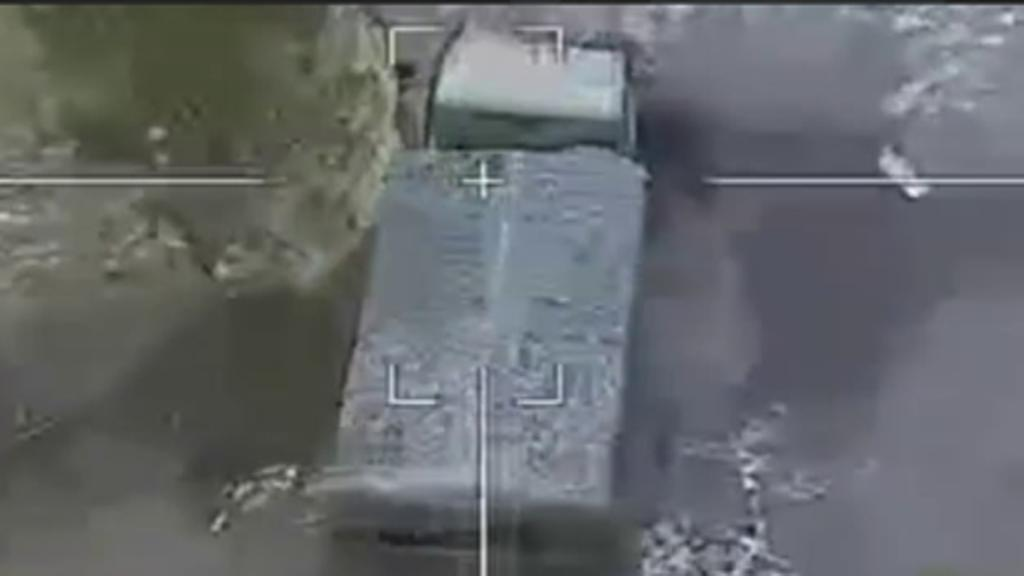TRUCK: (318, 25, 656, 558)
